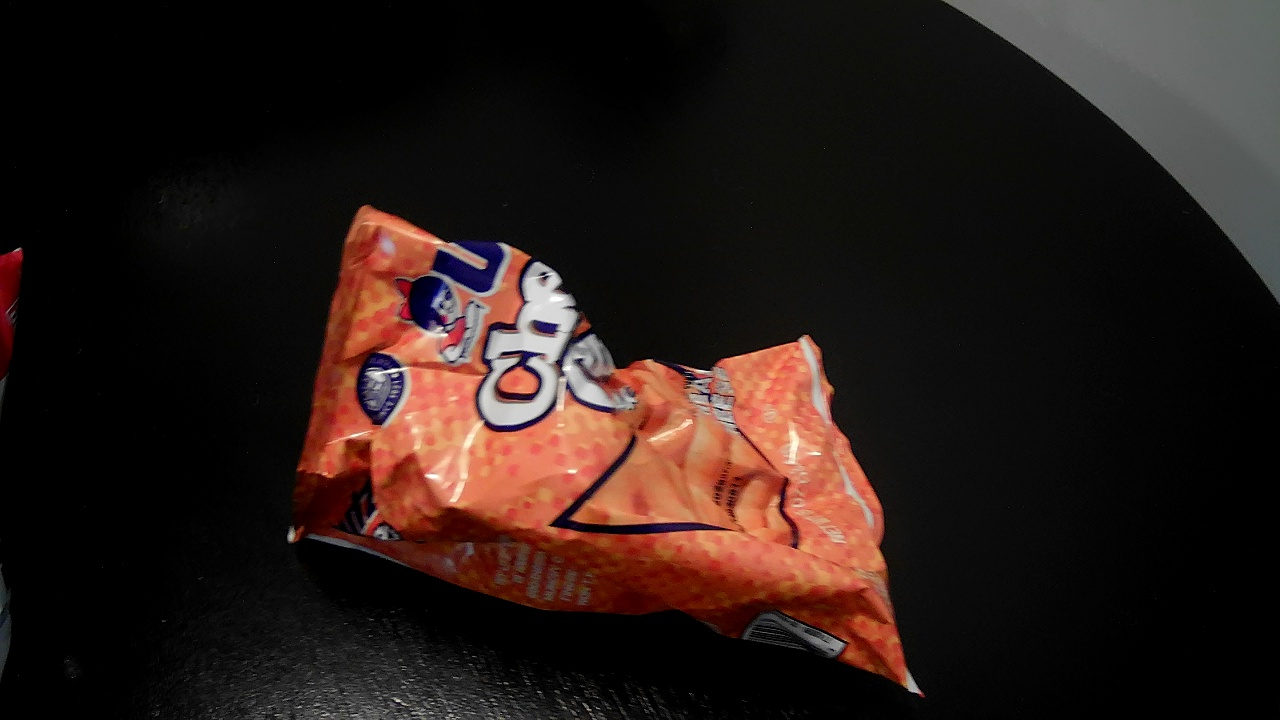trash: (214, 135, 1011, 687)
